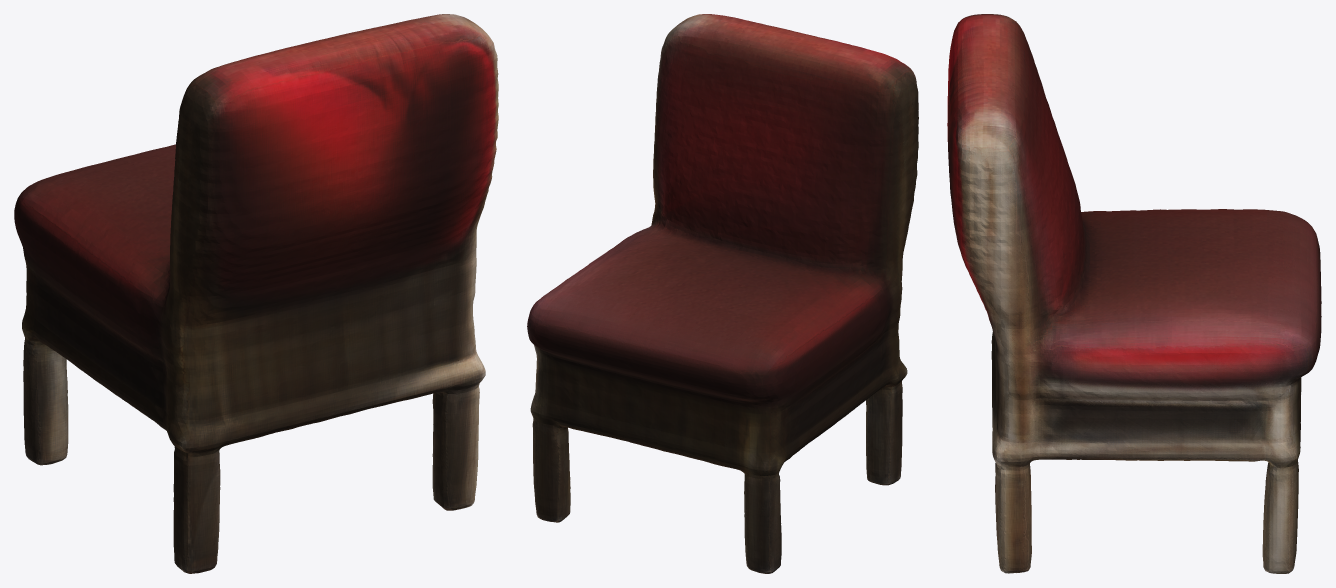
The model's file is a wooden chair with a red cushion.glb.
The picture shows the model from 3 angles, left to right: view 1: azimuth 30°, elevation 25°; view 2: azimuth 150°, elevation 25°; view 3: azimuth 270°, elevation 25°; orthographic projection. The views are drawn at different scales.
Size of the model in its own units: 0.6549 by 1 by 0.7541.
Materials: 1 (1 with a texture image).
